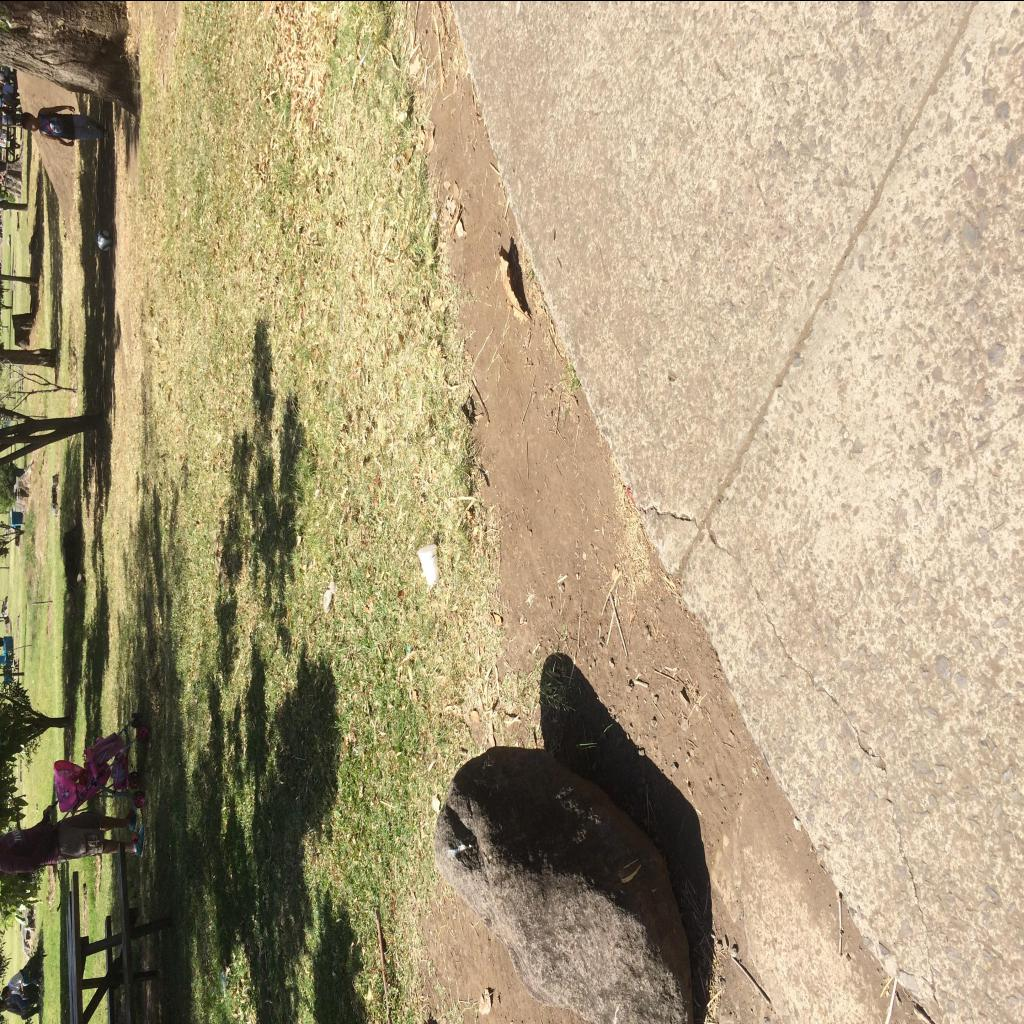Disposable plastic cup: (418, 544, 440, 584)
